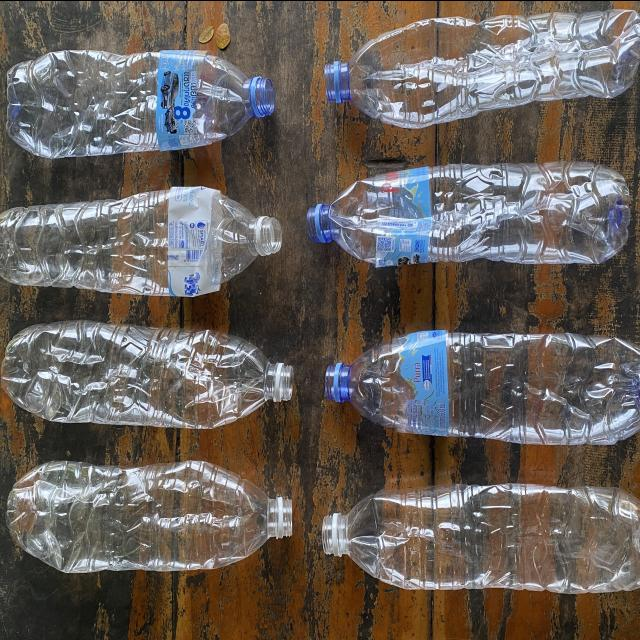plastik: (324, 9, 640, 128), (325, 329, 640, 444), (321, 484, 640, 593), (307, 161, 630, 266), (6, 460, 292, 572), (1, 319, 291, 427), (0, 186, 282, 295), (6, 50, 275, 157)
